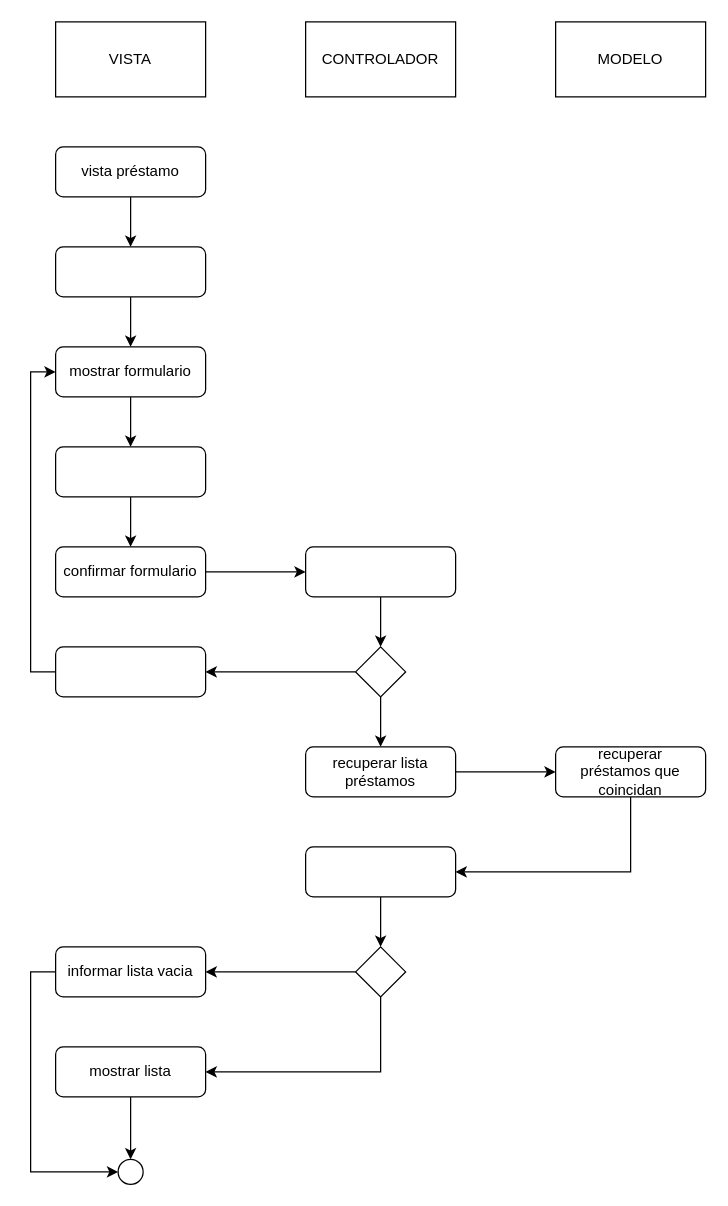
Image size: 728x1206. Some labels were removed from this diagram. The shapes that lost their labels are listed below. From the top down, each one's box as (x1, y1, x2, y2) in pixels, then its label:
(54, 246, 206, 297): listar préstamo por mayor que monto
(54, 446, 206, 497): completar formulario
(304, 546, 456, 597): validar datos
(54, 646, 206, 697): informar error
(304, 846, 456, 897): comprobar lista
